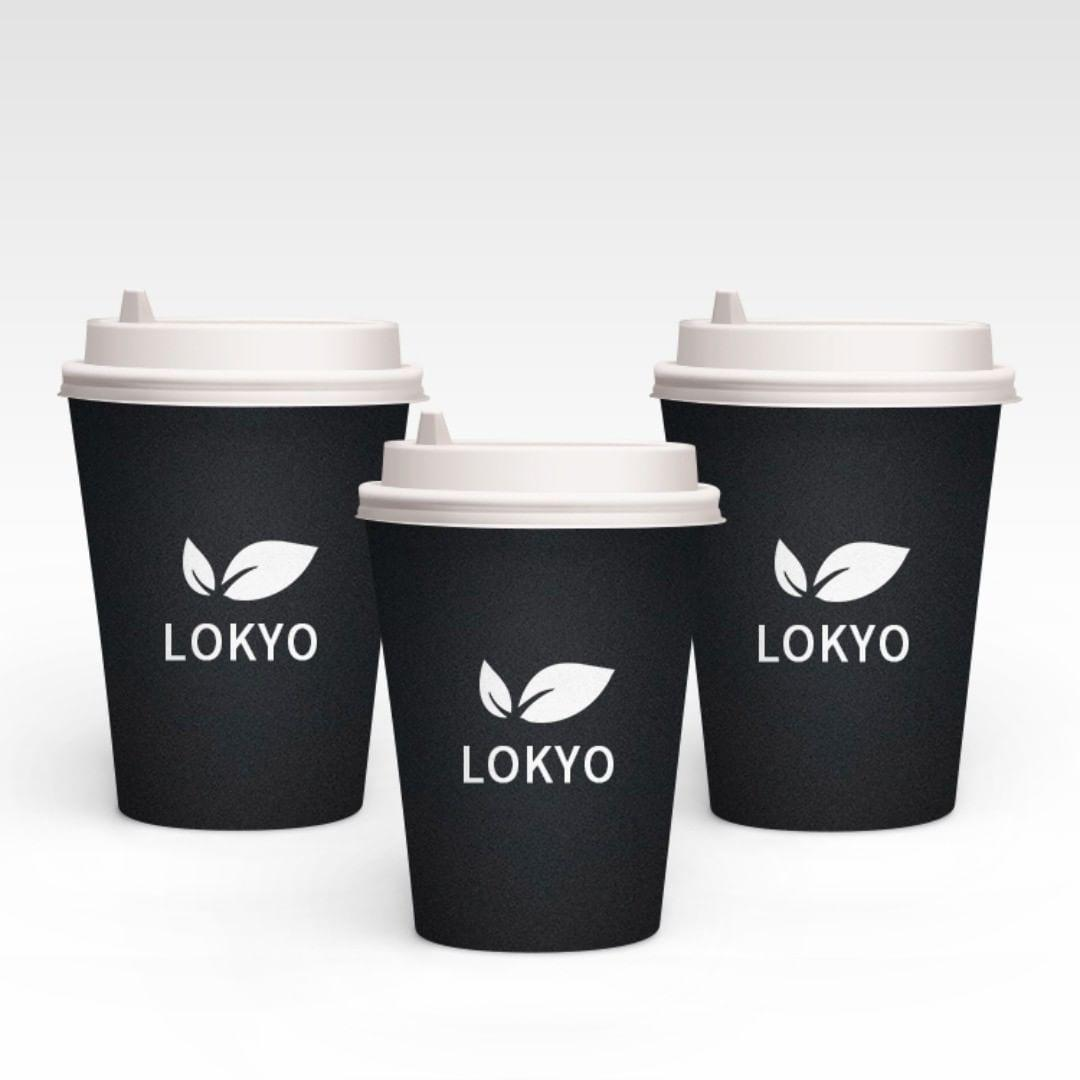cup-disposable: (641, 285, 1026, 838), (345, 421, 735, 961), (49, 295, 413, 845)
